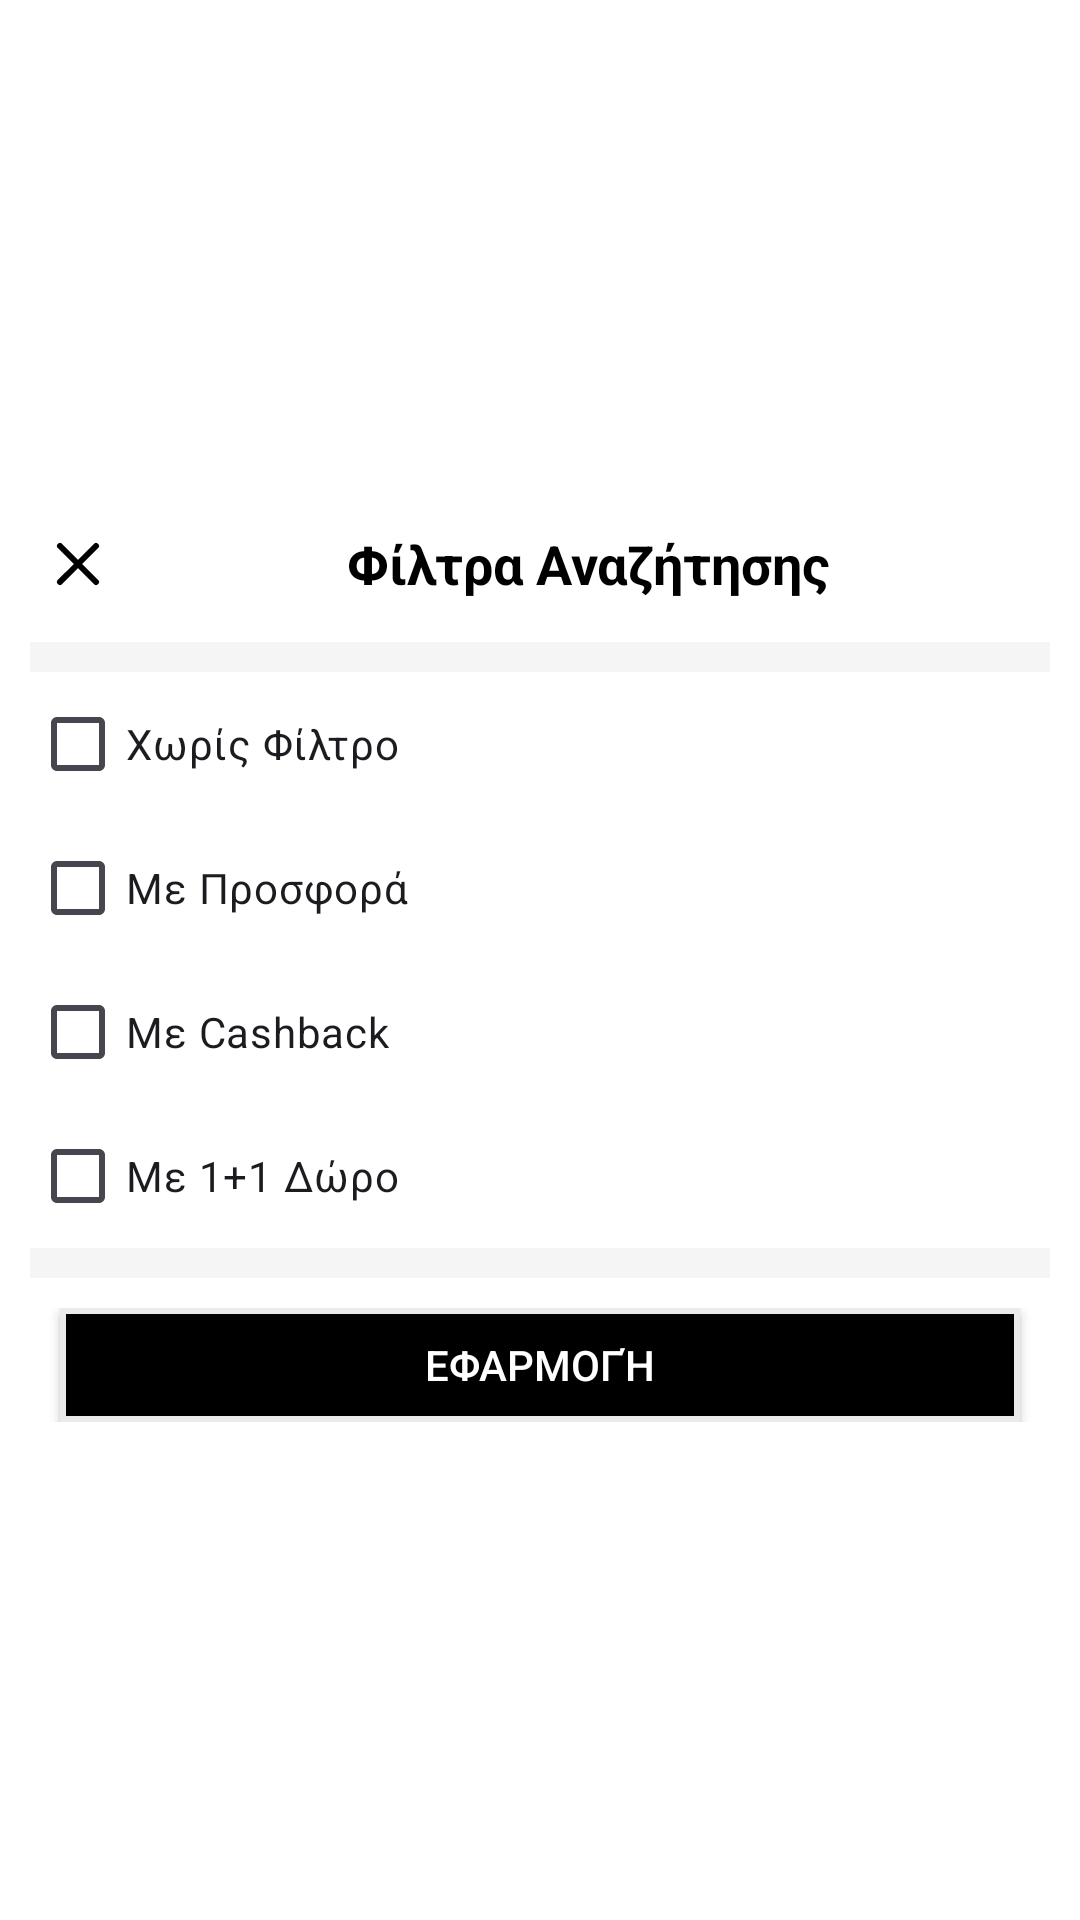

Named icons in this screenshot (1080px×1920px) and their bounding boxes, bbox(x1, y1, x2, y2):
marks the spot: bbox(57, 543, 99, 585)
